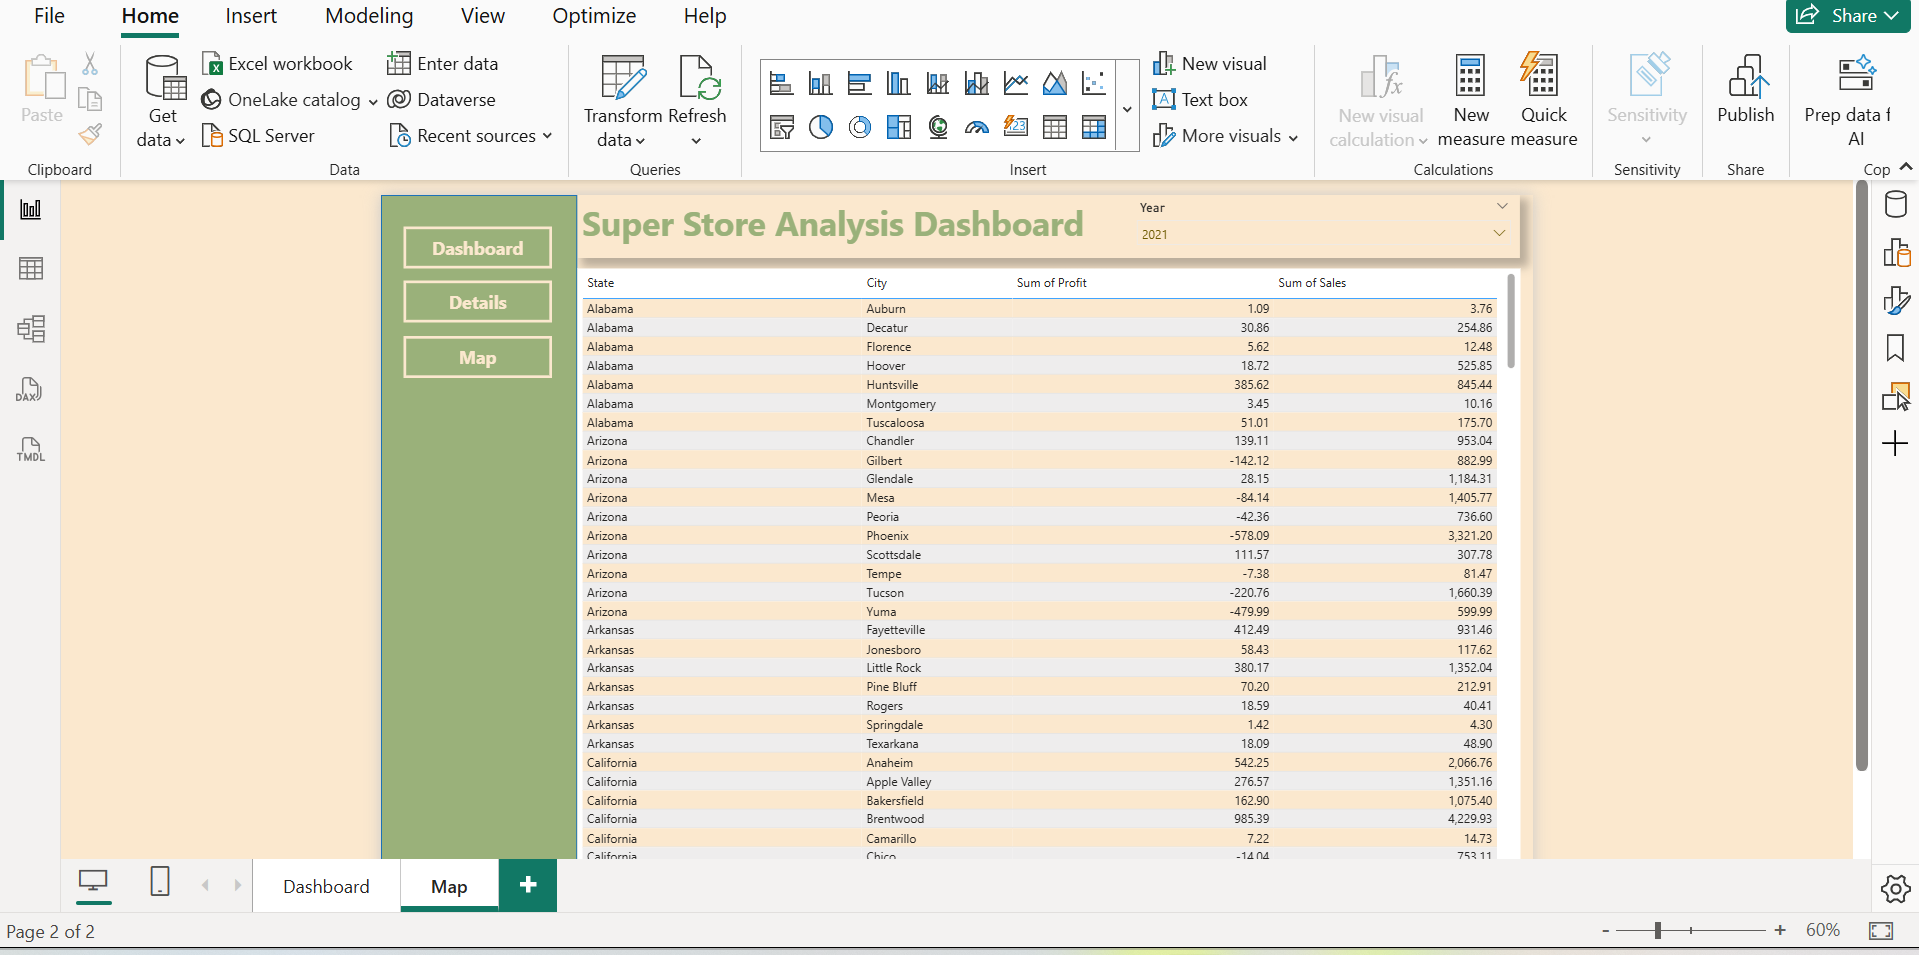

The dashboard page shown, as its layout file describes it:
{"tool":"powerbi","page":{"name":"Map","canvas":[1280,850],"ordinal":1},"visuals":[{"type":"textbox","box":[218.3,0,1046.7,70],"z":0},{"type":"shape","box":[0,0,218,850],"z":1000},{"type":"slicer","fields":{"Values":["Orders.Order Date.Variation.Date Hierarchy.Year","Orders.Order Date.Variation.Date Hierarchy.Quarter","Orders.Order Date.Variation.Date Hierarchy.Month","Orders.Order Date.Variation.Date Hierarchy.Day"]},"box":[830,0,435,70],"z":2000},{"type":"actionButton","box":[25,35,165,46.7],"z":3000},{"type":"actionButton","box":[25,95,165,46.7],"z":4000},{"type":"actionButton","box":[25,156.7,165,46.7],"z":5000},{"type":"tableEx","fields":{"Values":["Orders.State","Orders.City","Sum(Orders.Profit)","Sum(Orders.Sales)"]},"box":[218.3,81.7,1046.7,768.3],"z":7000}]}

Visuals, with their boxes on the page's 1280x850 design canvas (x1, y1, x2, y2). These are canvas units, not pixel positions in the 1919x955 screenshot, which may show the page scaled, cropped or inside an application window:
textbox: box(218, 0, 1265, 70)
shape: box(0, 0, 218, 850)
slicer - Orders.Order Date.Variation.Date Hierarchy.Year x Orders.Order Date.Variation.Date Hierarchy.Quarter: box(830, 0, 1265, 70)
actionButton: box(25, 35, 190, 82)
actionButton: box(25, 95, 190, 142)
actionButton: box(25, 157, 190, 203)
tableEx - Orders.State x Orders.City: box(218, 82, 1265, 850)
